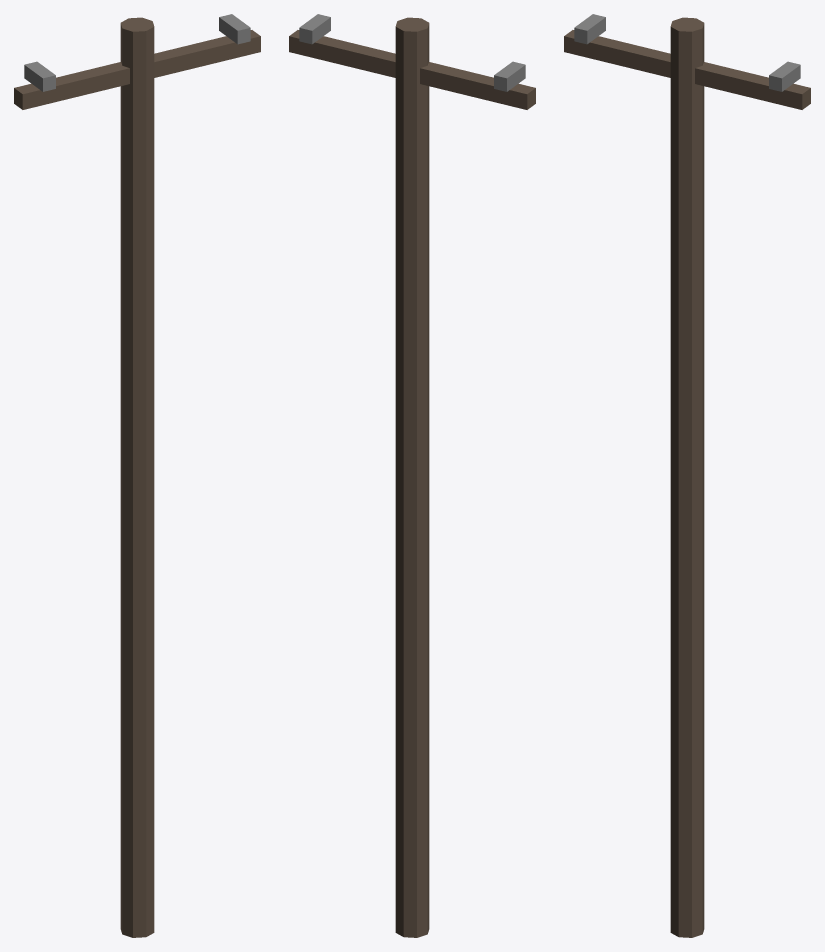
File: prop_power_pole.glb
3 views of the same model, side by side, from view 1: azimuth 30°, elevation 25°; view 2: azimuth 150°, elevation 25°; view 3: azimuth 330°, elevation 25° (orthographic).
Parts seen in each view (by area): view 1: prop_power_pole; view 2: prop_power_pole; view 3: prop_power_pole.
Boxes of the visible parts, <box> form: prop_power_pole: <box>14,14,260,937</box>; prop_power_pole: <box>289,14,535,937</box>; prop_power_pole: <box>564,14,810,937</box>.
Size of the model in its own units: 2.2 by 8 by 0.3.
